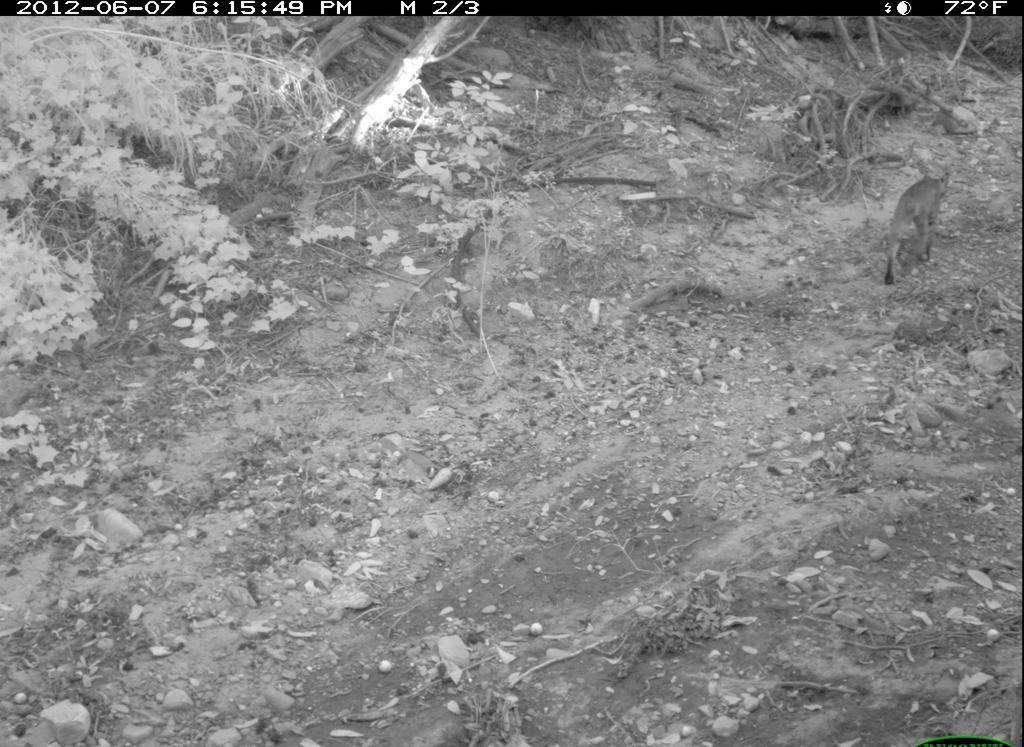bobcat: (862, 161, 968, 292)
